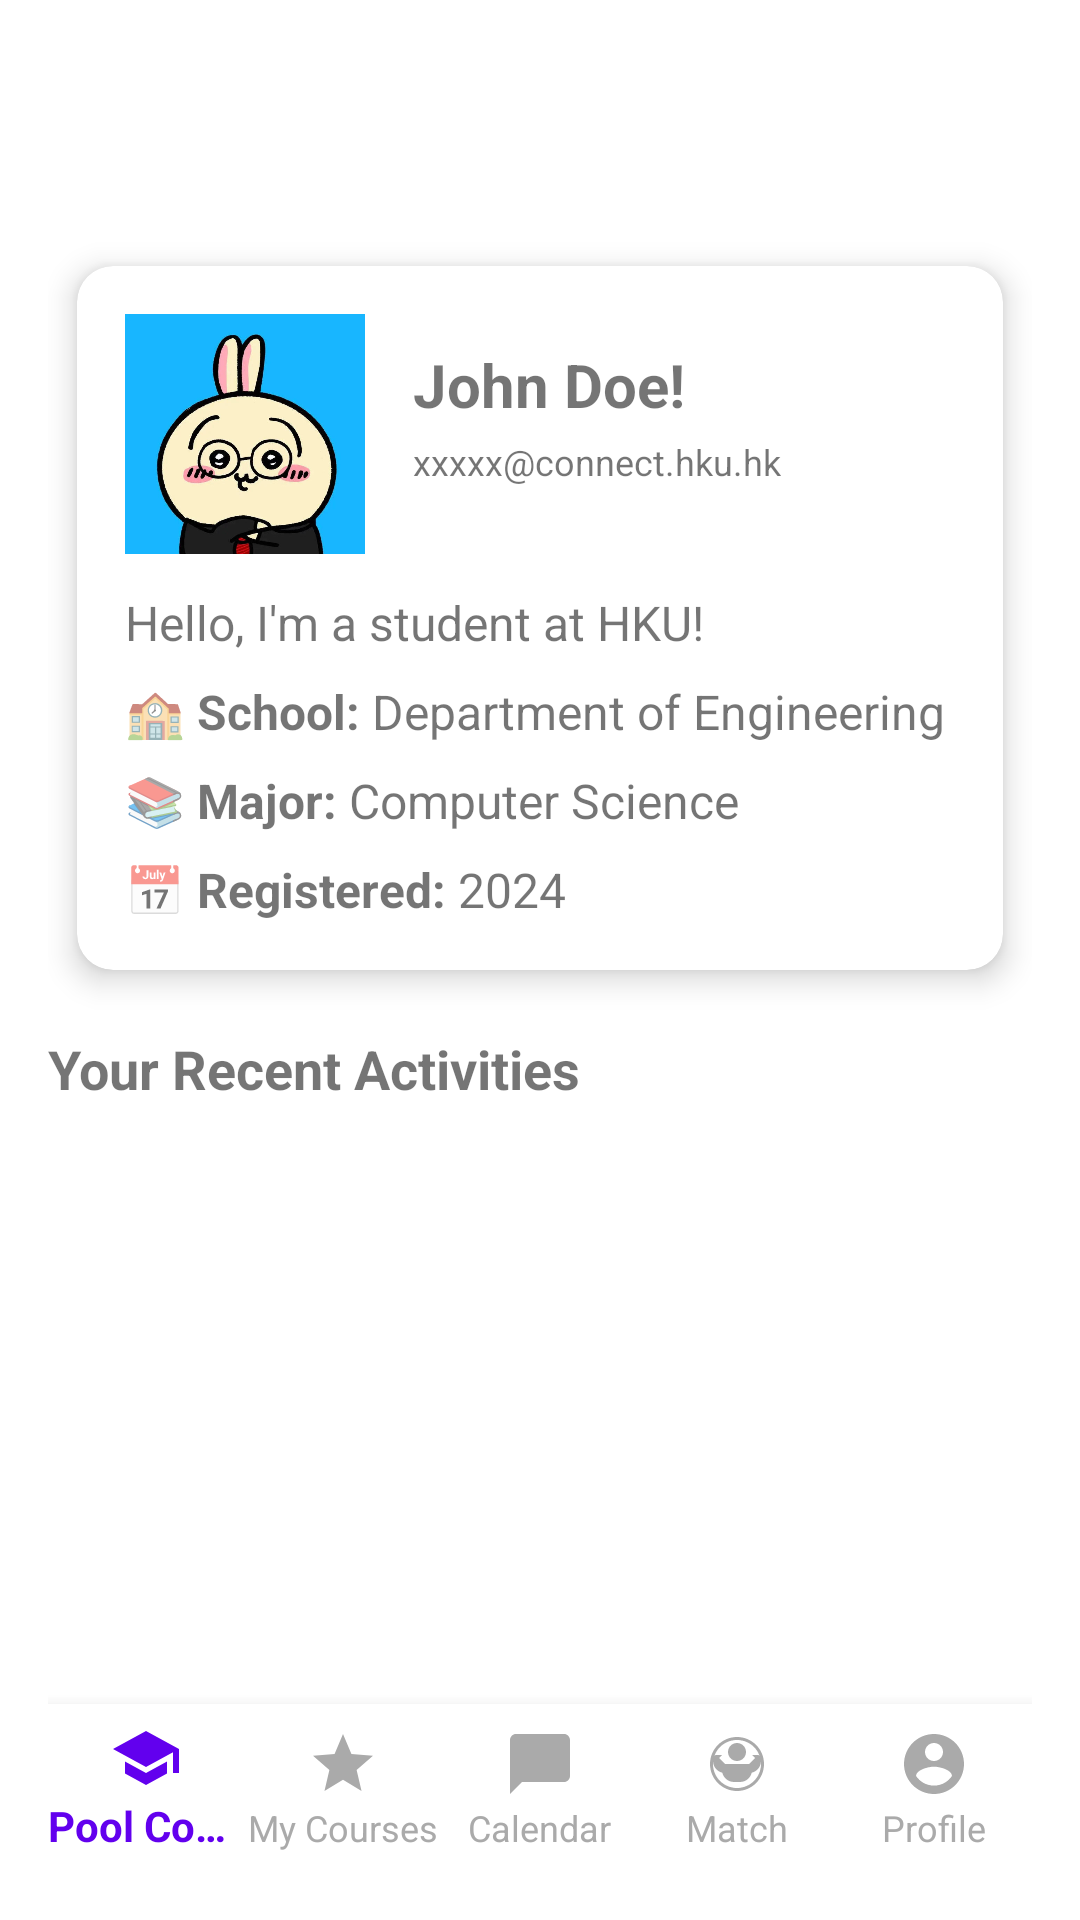

Where to tap for icons on this 1080px x 1920px app screen, as point (x, y):
profile picture: point (245, 434)
